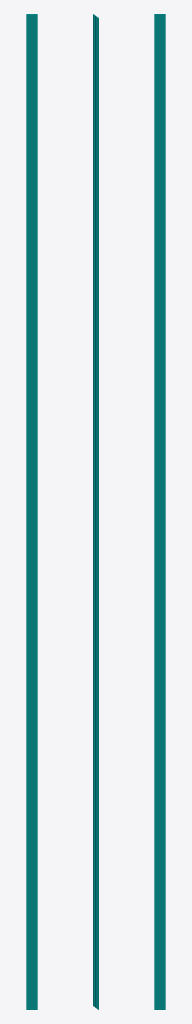
Rendered from leftplant-ornament.obj.
3 renders of one model, left to right at view 1: azimuth 90°, elevation 25°; view 2: azimuth 210°, elevation 25°; view 3: azimuth 270°, elevation 25°, orthographic.
Parts seen in each view (by area): view 1: ??(??)1_??(??)1.001; view 2: ??(??)1_??(??)1.001; view 3: ??(??)1_??(??)1.001.
Boxes of the visible parts, bbox=[...] form: ??(??)1_??(??)1.001: bbox=[26, 14, 37, 1009]; ??(??)1_??(??)1.001: bbox=[93, 14, 98, 1009]; ??(??)1_??(??)1.001: bbox=[154, 14, 165, 1009].
Bounding box in the file's own units: 0.000788 × 1.56 × 0.0161.
